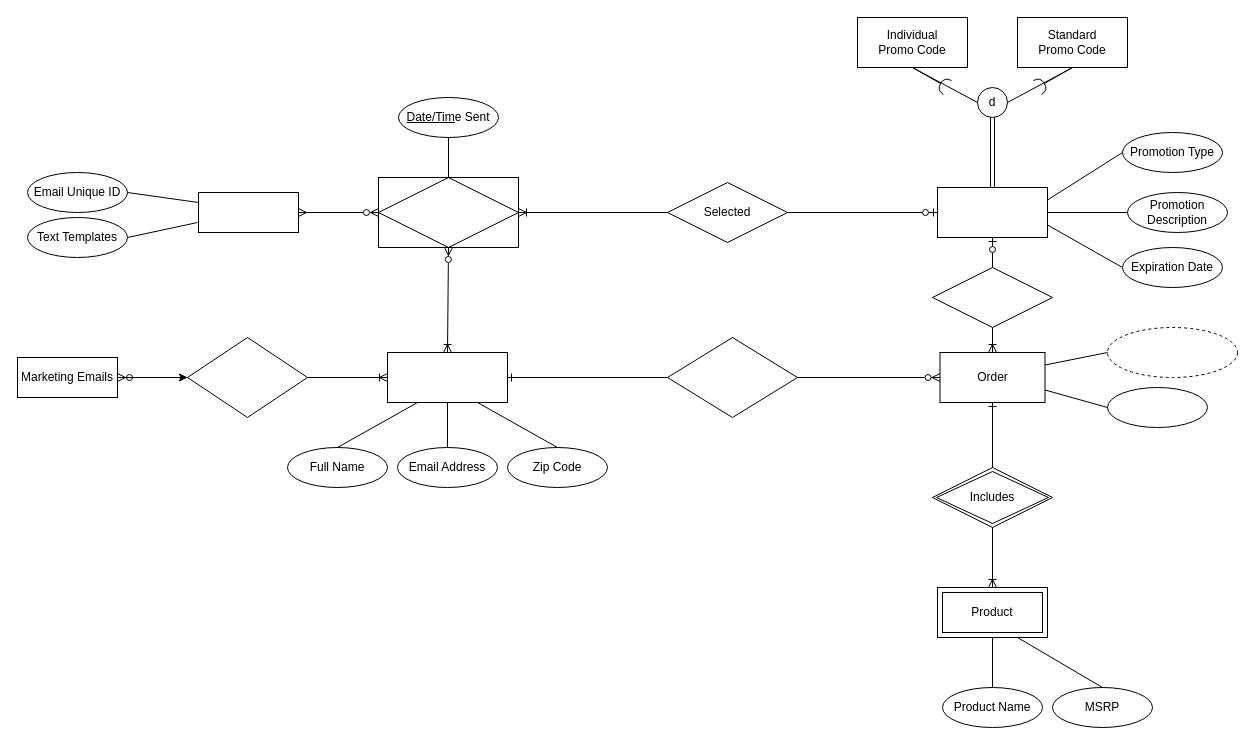
This 1255x745 diagram has some shape labels left out. Each missing label, with the box of its shape:
AcceptsDiscount: (932, 266, 1052, 328)
ChosetoOpt: (186, 336, 308, 418)
Customer: (386, 352, 508, 402)
Emails: (198, 192, 298, 232)
Order ID: (1106, 386, 1208, 428)
Places: (666, 336, 798, 418)
Promo Code: (936, 186, 1048, 238)
Targeted Marketing Roster: (378, 176, 518, 248)
Total Amount Paid for Order: (1106, 326, 1238, 378)
